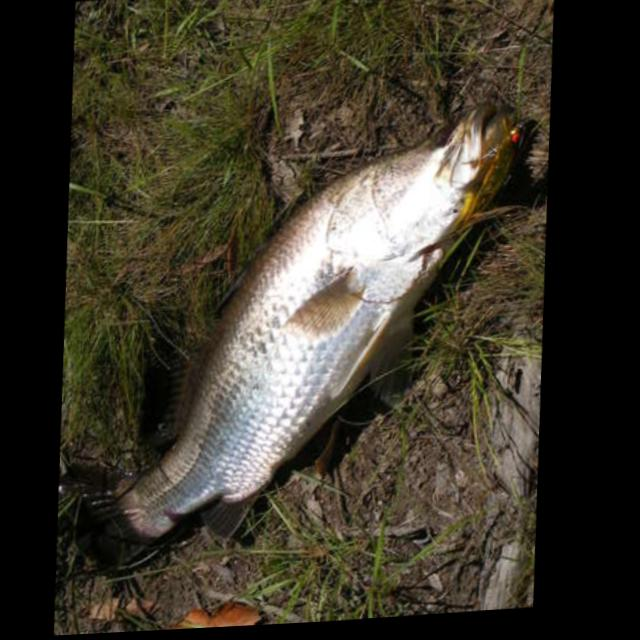Seabass: (61, 98, 529, 583)
